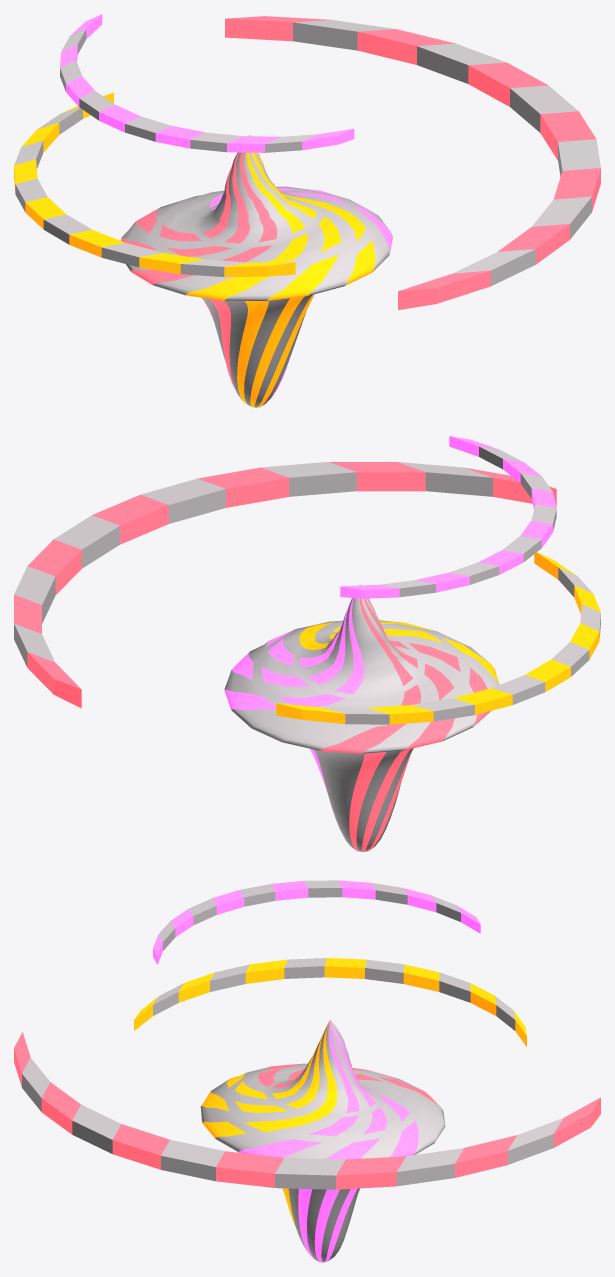
The model's file is spin.fbx.
3 renders of one model, top to bottom at view 1: azimuth 30°, elevation 25°; view 2: azimuth 150°, elevation 25°; view 3: azimuth 270°, elevation 25°, orthographic. The views are drawn at different scales.
Visible parts, largest first — view 1: BezierCurve; view 2: BezierCurve; view 3: BezierCurve.
Part boxes in pixels (left/top/right/bottom): BezierCurve: left=14, top=14, right=600, bottom=407; BezierCurve: left=14, top=436, right=600, bottom=851; BezierCurve: left=14, top=880, right=600, bottom=1262.
Size of the model in its own units: 3.04 by 1.96 by 3.39.
